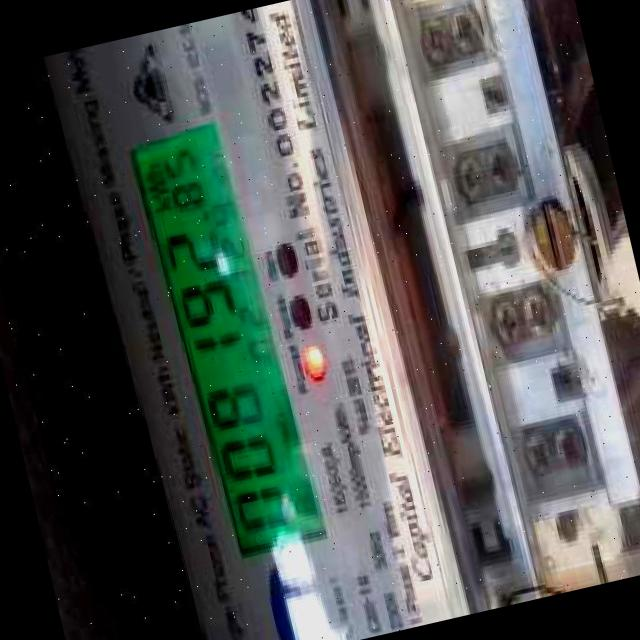LCD: (129, 98, 327, 571)
